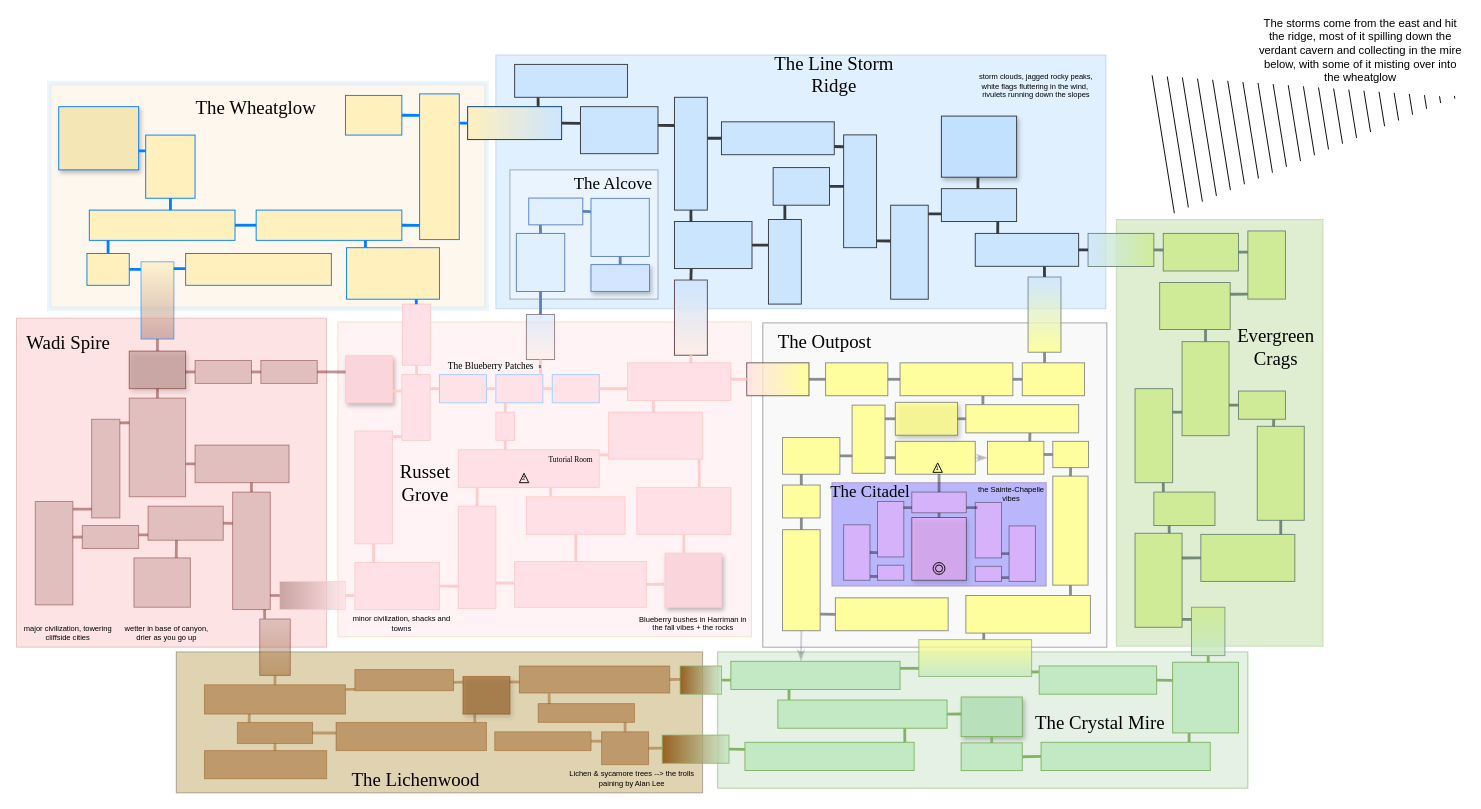
This 1481x809 diagram has some shape labels left out. Each missing label, with the centre of its shape:
City Outskirts: [396,586]
Village: [655,435]
